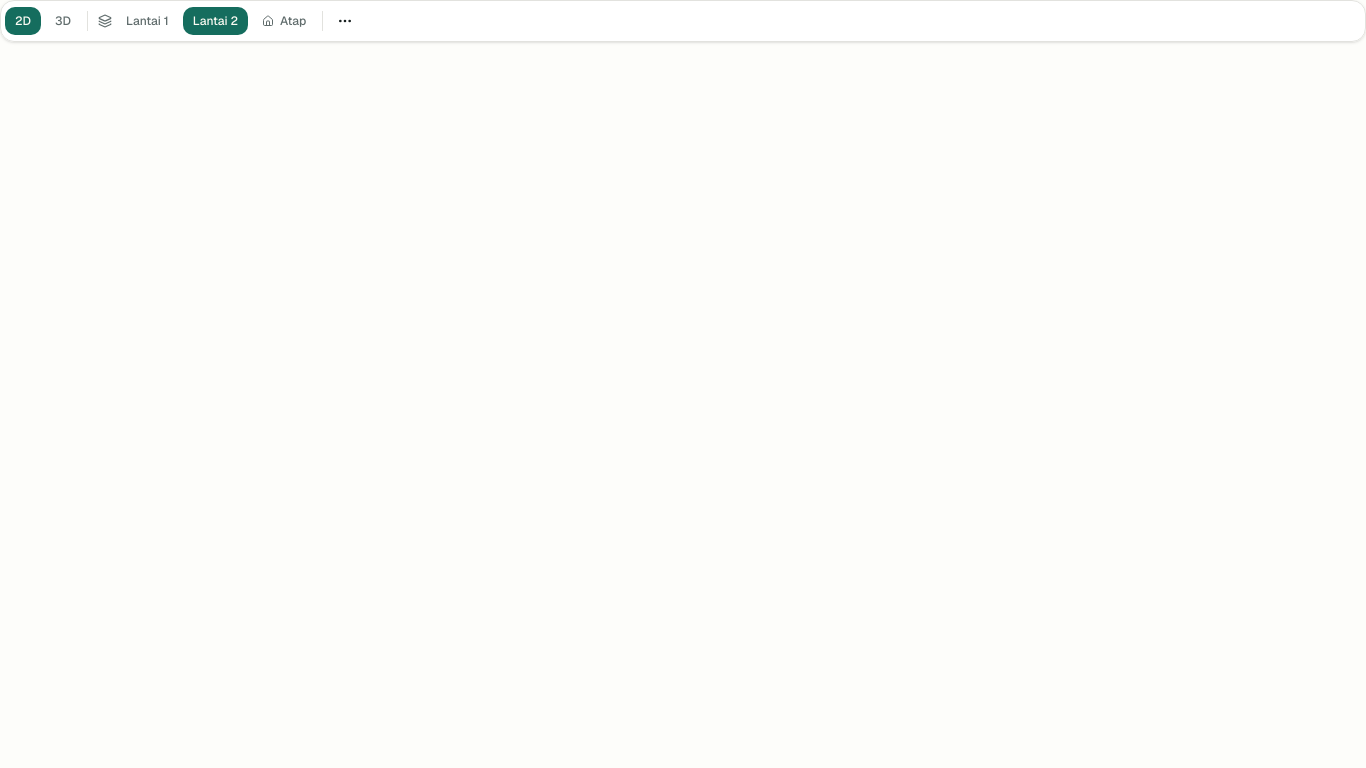
Test: FloorSwitcher — hapus lantai via useConfirm (bukan window.confirm) › membuka AlertDialog dan TIDAK menghapus lantai saat Batal diklik
Press the mouse on the button named "Aksi lantai" at point(345, 21), box top-left (329, 5), bottom-right (361, 37)
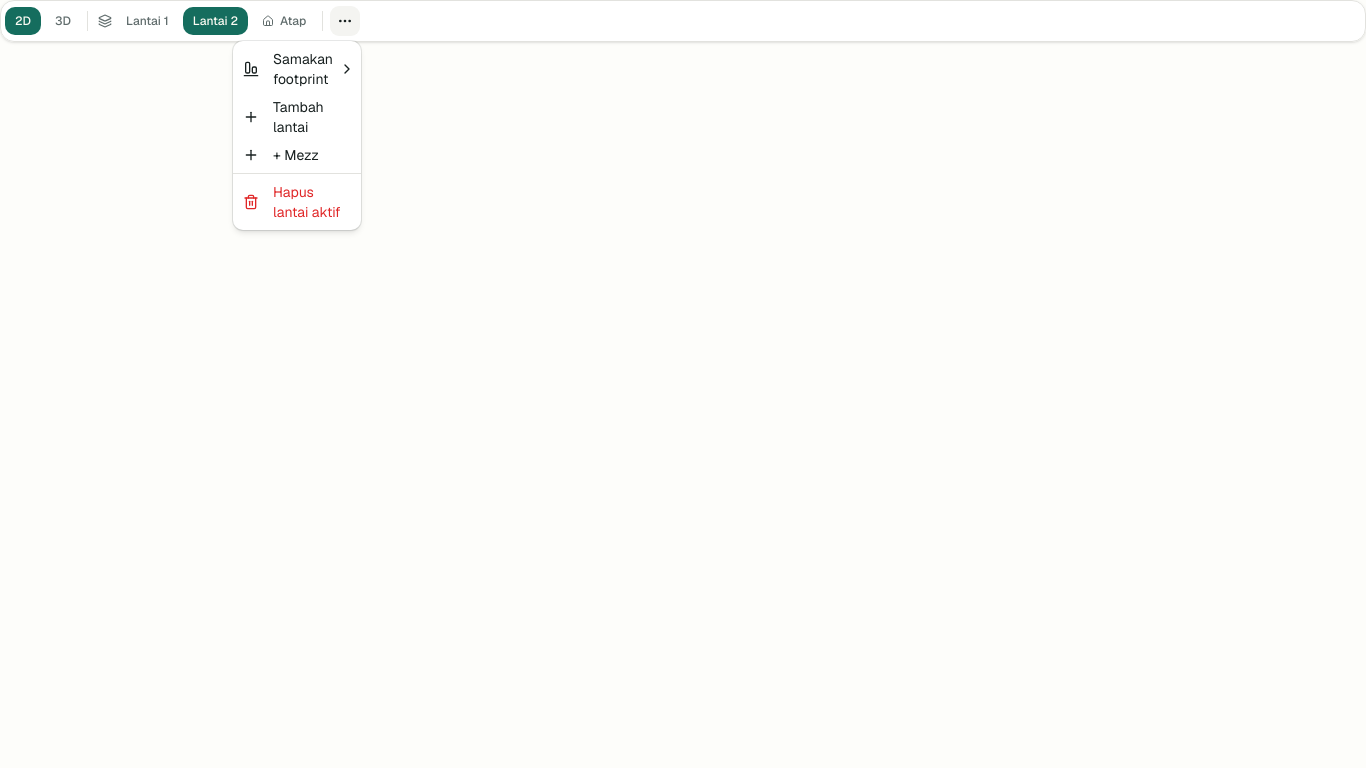
Click the menu item "Hapus lantai aktif" at point(292, 202), box top-left (243, 183), bottom-right (340, 221)
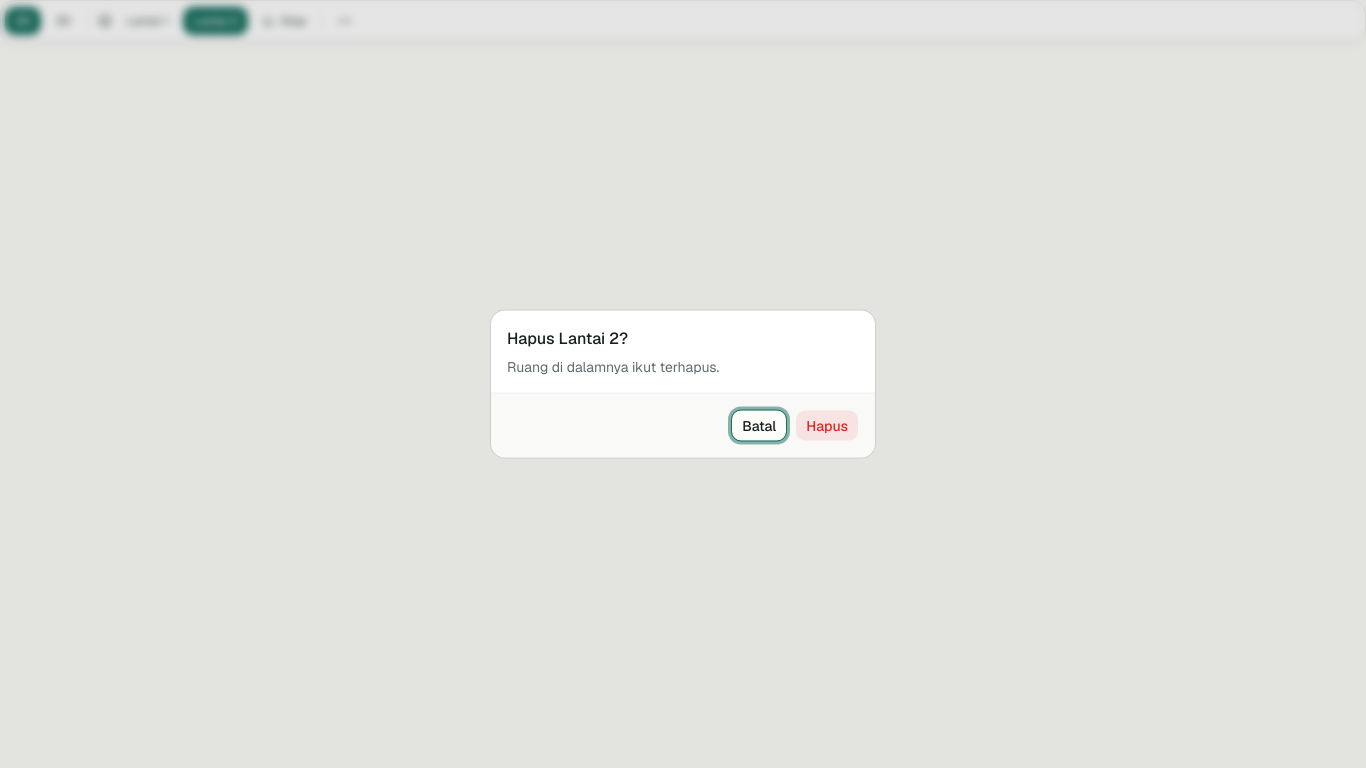
expect the heading "Hapus Lantai 2?" is shown: met, box top-left (507, 326), bottom-right (628, 350)
Click the button "Batal" at point(759, 426), box top-left (731, 410), bottom-right (787, 442)
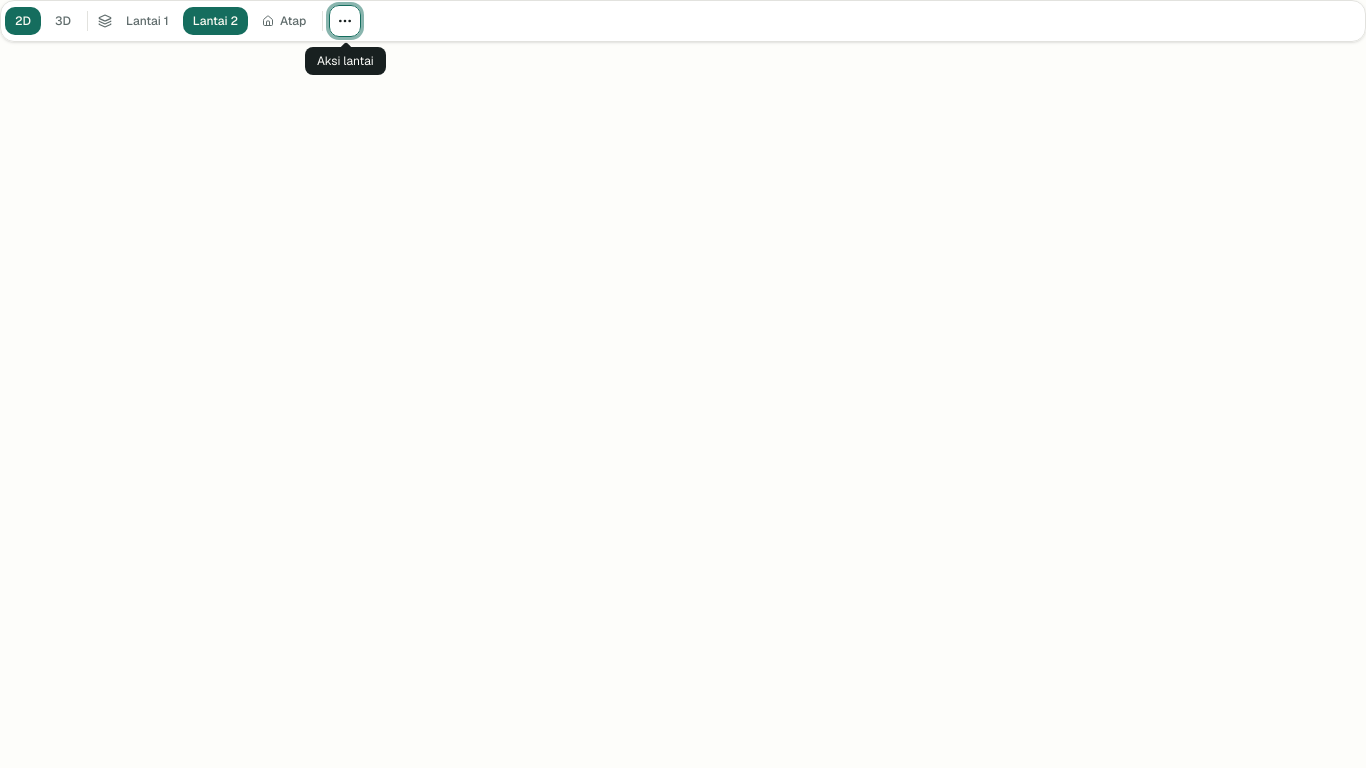
expect the heading "Hapus Lantai 2?" is gone: met
